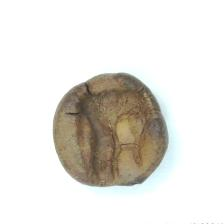NG: (72, 86, 157, 186)
